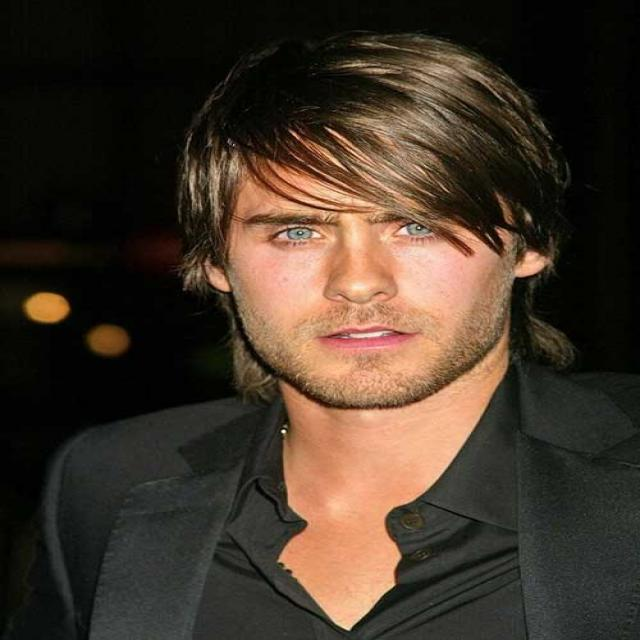earlobe: (511, 255, 539, 279), (207, 267, 232, 293)
eye: (270, 226, 328, 244), (392, 220, 444, 238)
nose: (326, 292, 397, 318)
